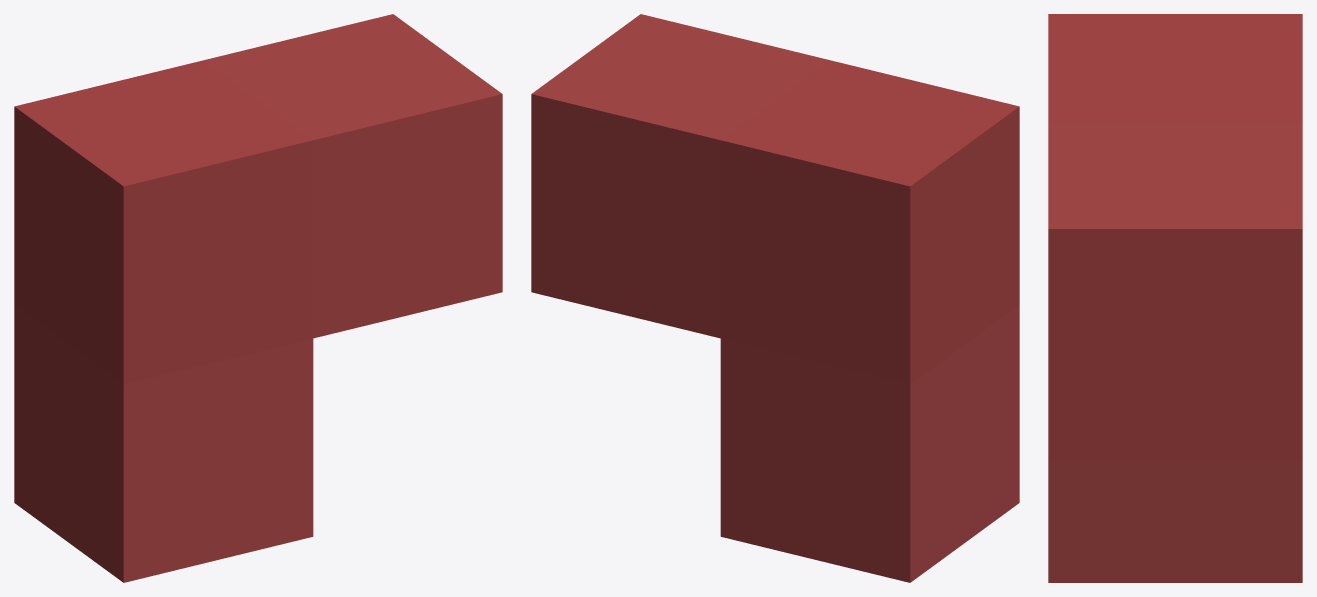
The model's file is Altar_BloodMeter_1.fbx.
The picture shows the model from 3 angles, left to right: view 1: azimuth 30°, elevation 25°; view 2: azimuth 150°, elevation 25°; view 3: azimuth 270°, elevation 25°; orthographic projection. The views are drawn at different scales.
Visible parts, largest first — view 1: Altar_BloodMeter_1; view 2: Altar_BloodMeter_1; view 3: Altar_BloodMeter_1.
Boxes of the visible parts, x1,y1,x2,y2 form: Altar_BloodMeter_1: (14, 14, 502, 582); Altar_BloodMeter_1: (531, 14, 1019, 582); Altar_BloodMeter_1: (1048, 14, 1302, 582).
Bounding box in the file's own units: 2 × 2 × 1.
Materials: 1 (1 with a texture image).
